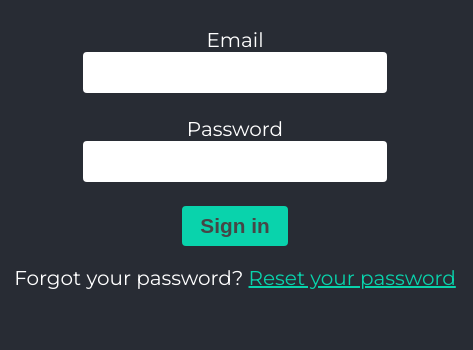
Login form error handling › it should warn for empty email and password
Click the button.
click(235, 226)  # box 182,206 -> 288,246
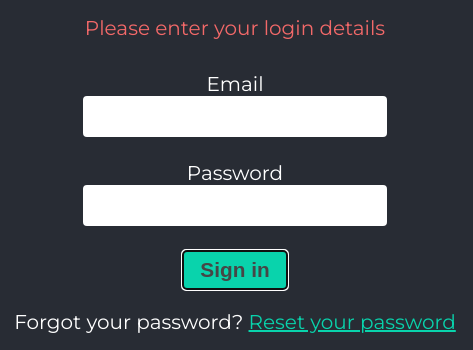
Expected: the text with test id "login-errors" reads "Please enter your login details", 85,16 -> 385,40
